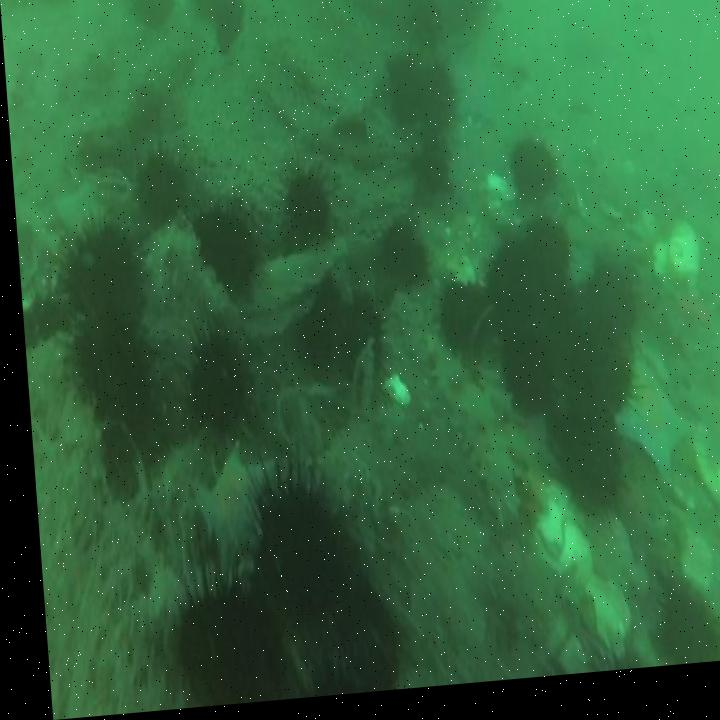echinus: (162, 589, 263, 711), (252, 486, 338, 616), (544, 287, 623, 426), (66, 319, 150, 446), (54, 227, 138, 326), (552, 419, 620, 523), (642, 593, 719, 678), (179, 339, 244, 437), (188, 211, 253, 293), (494, 330, 549, 424), (294, 280, 345, 375), (483, 257, 538, 339), (432, 288, 484, 366), (519, 225, 568, 305), (132, 155, 181, 231), (340, 307, 381, 393), (584, 274, 634, 343), (376, 228, 422, 302), (507, 147, 555, 211), (280, 176, 324, 243), (382, 60, 419, 129), (418, 69, 452, 131), (212, 0, 245, 56), (131, 0, 174, 30)
holothurian: (421, 338, 513, 546)
starfish: (605, 356, 688, 493), (184, 456, 269, 570)
